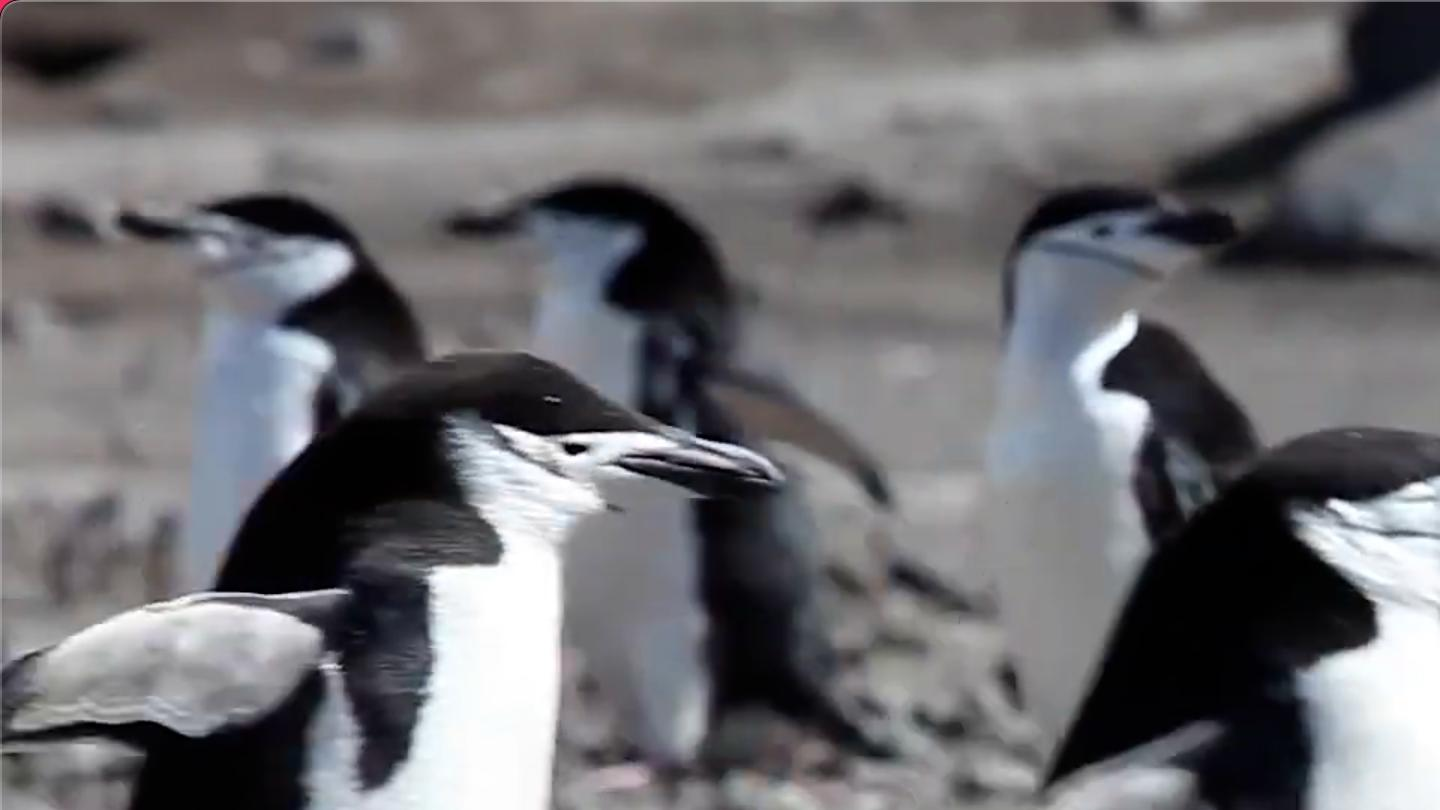Chinstrap Penguin: (0, 355, 801, 810), (832, 404, 1440, 810), (950, 160, 1293, 743)
